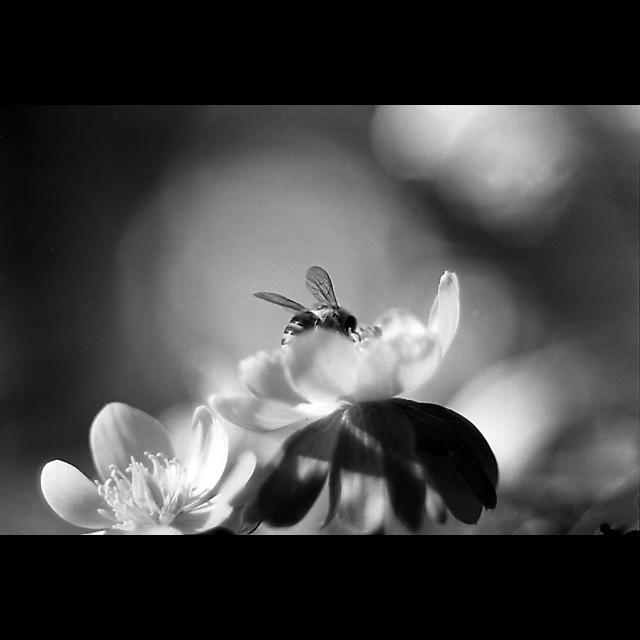Flower: (39, 271, 501, 535)
